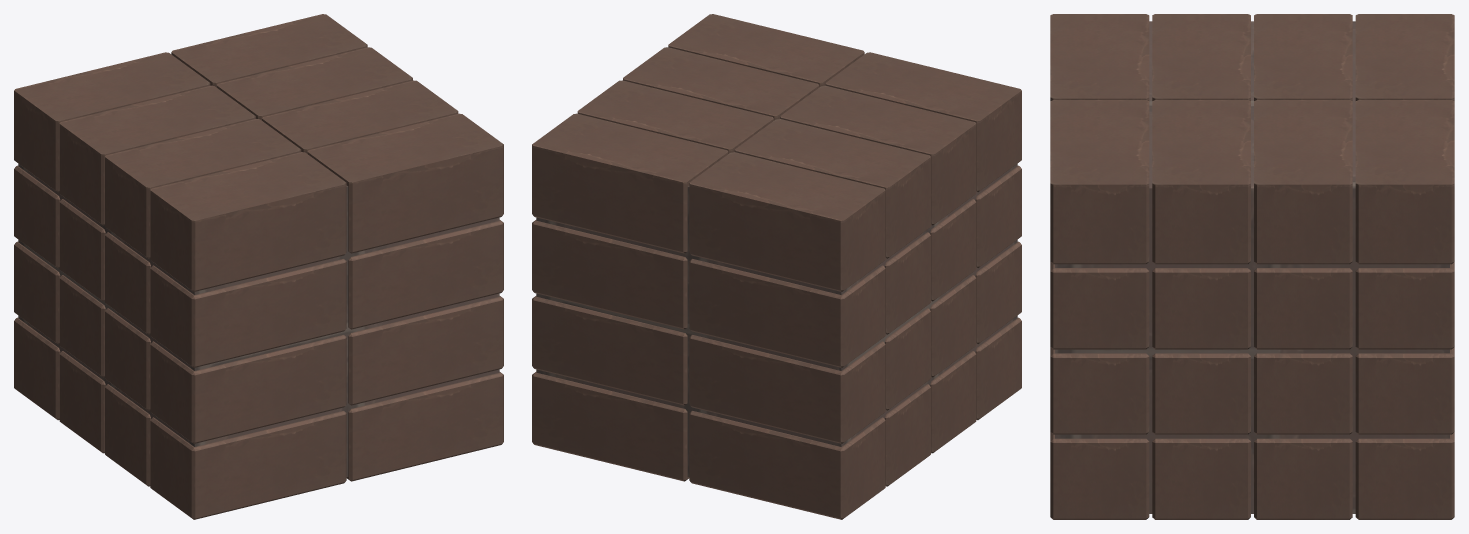
Rendered from env-brick-stack.glb.
The picture shows the model from 3 angles, left to right: view 1: azimuth 30°, elevation 25°; view 2: azimuth 150°, elevation 25°; view 3: azimuth 270°, elevation 25°; orthographic projection. The views are drawn at different scales.
Parts seen in each view (by area): view 1: VIS_brick, COL_crate; view 2: VIS_brick, COL_crate; view 3: VIS_brick, COL_crate.
Boxes of the visible parts, box(x1,y1,x2,y2) form: VIS_brick: box(14, 14, 503, 519); COL_crate: box(18, 164, 499, 476); VIS_brick: box(532, 14, 1021, 519); COL_crate: box(536, 164, 1017, 476); VIS_brick: box(1050, 14, 1454, 519); COL_crate: box(1055, 21, 1449, 513).
Size of the model in its own units: 0.675 by 0.62 by 0.675.
1 material, 1 textured.
